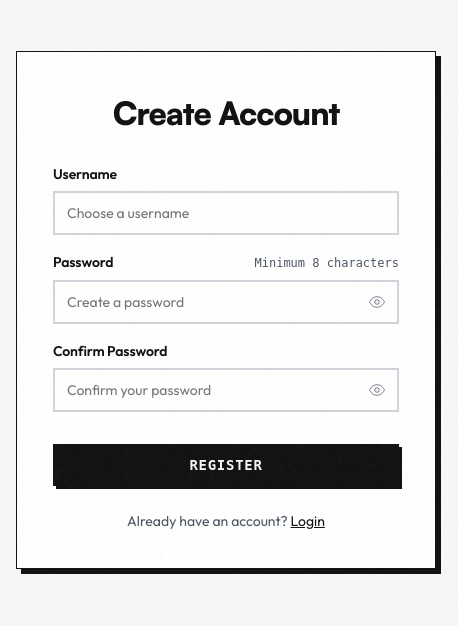
RegisterForm component › validates fields on blur
In the field labelled "Username": (226, 213) [53, 191, 399, 235], type "ab"
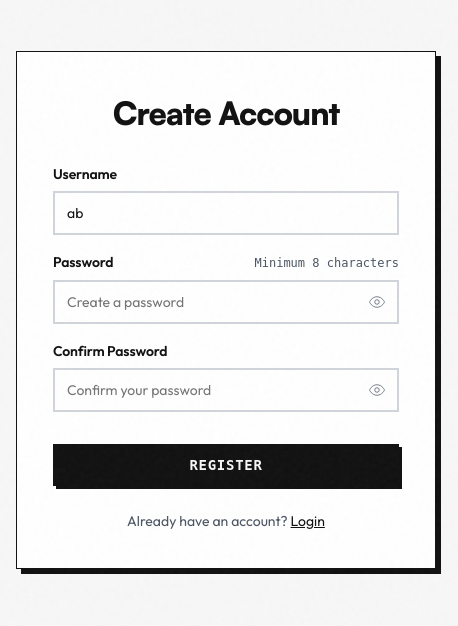
Leave the field labelled "Username", box [53, 191, 399, 235]
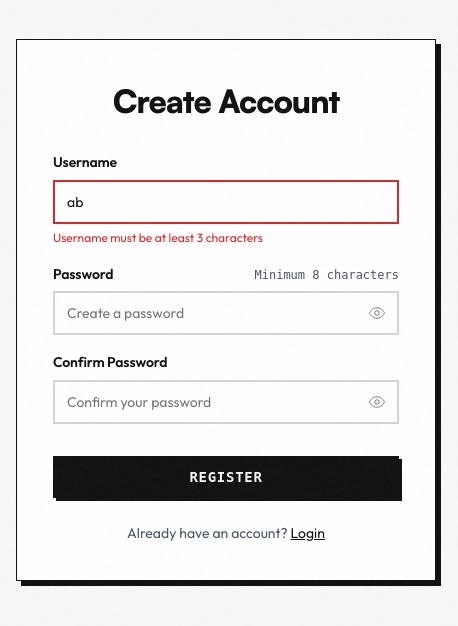
expect the text "Username must be at least 3 characters" is shown: met, box [53, 230, 263, 245]
In the password field labelled "Password": (226, 313) [53, 291, 399, 335], type "123"
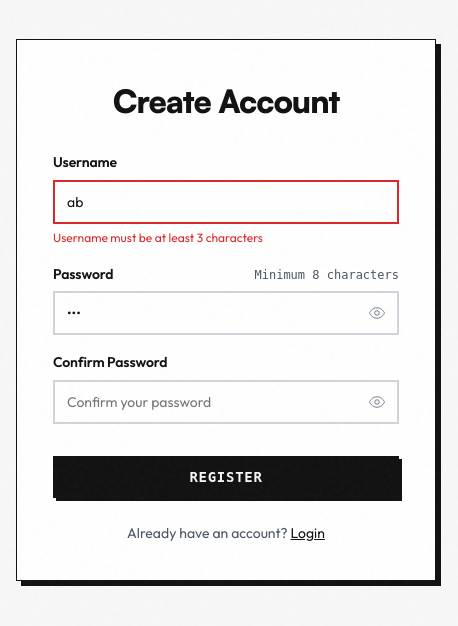
Leave the password field labelled "Password", box [53, 291, 399, 335]
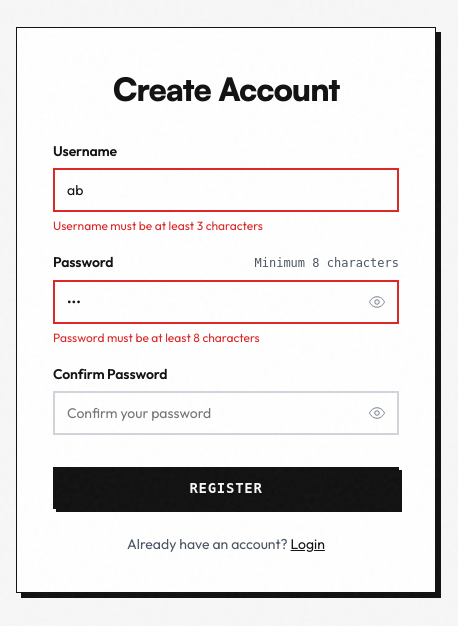
expect the text "Password must be at least 8 characters" is shown: met, box [53, 330, 260, 345]
In the password field labelled "Confirm Password": (226, 413) [53, 391, 399, 435], type "mismatch"
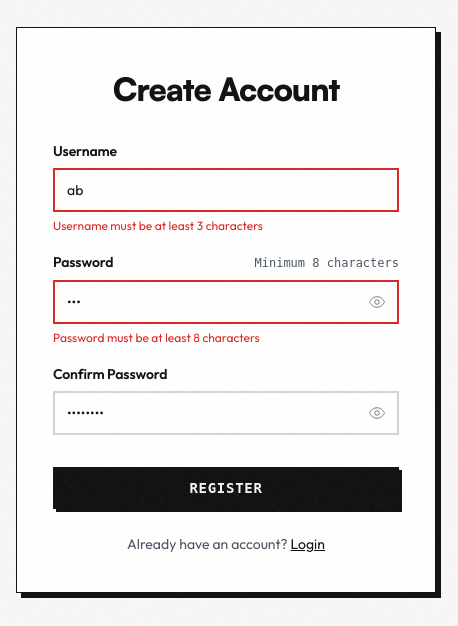
Leave the password field labelled "Confirm Password", box [53, 391, 399, 435]
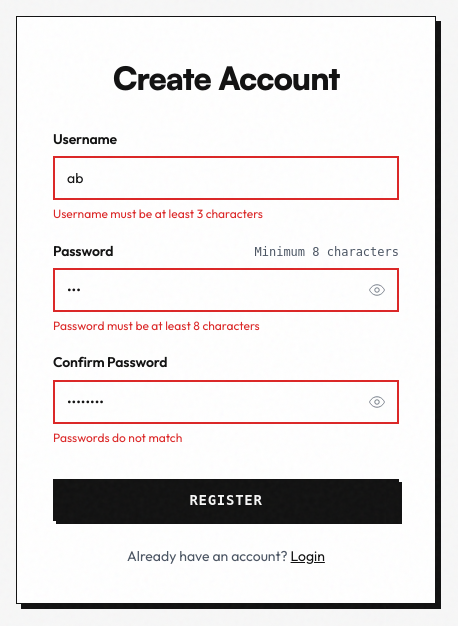
expect the text "Passwords do not match" is shown: met, box [53, 430, 182, 445]
